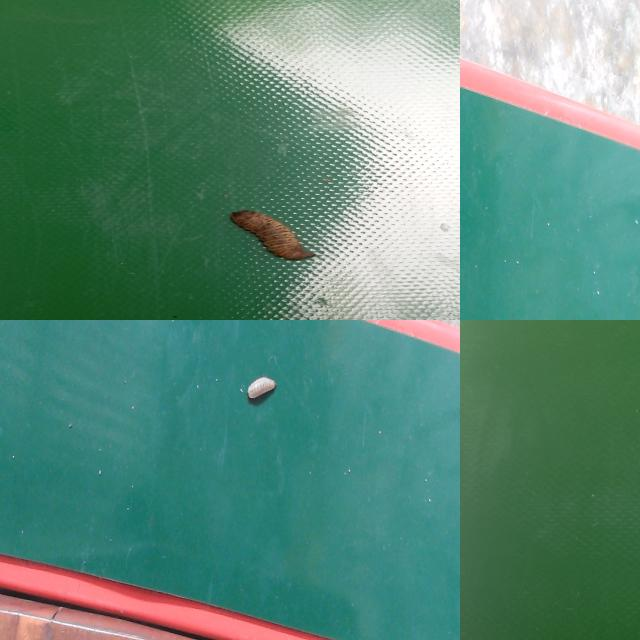Maggot: (229, 210, 309, 263), (244, 375, 278, 406)
